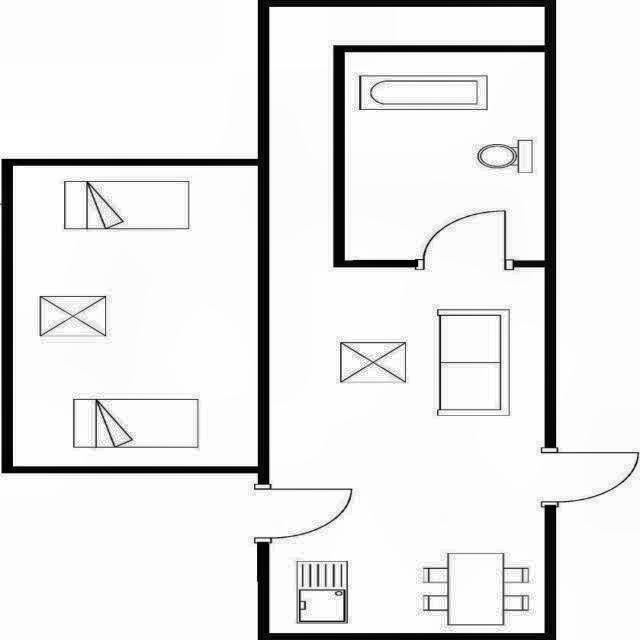room: (269, 7, 545, 633), (13, 166, 257, 466), (345, 52, 545, 260)
